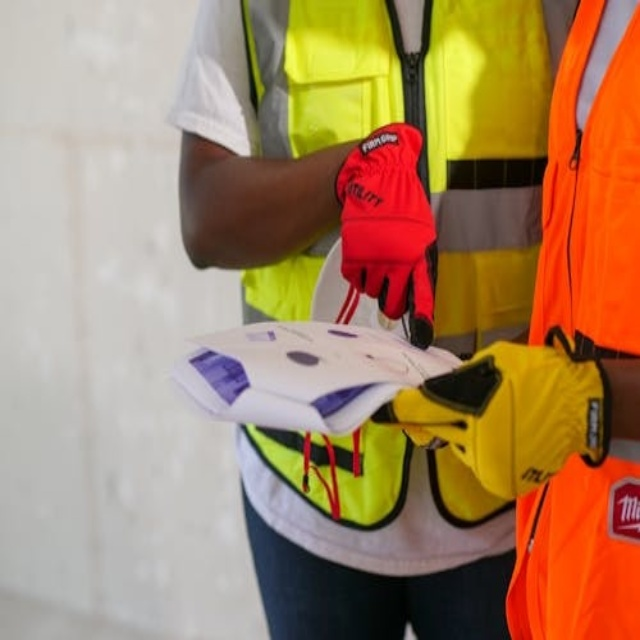Guantes: (385, 325, 613, 504), (334, 121, 439, 344)
